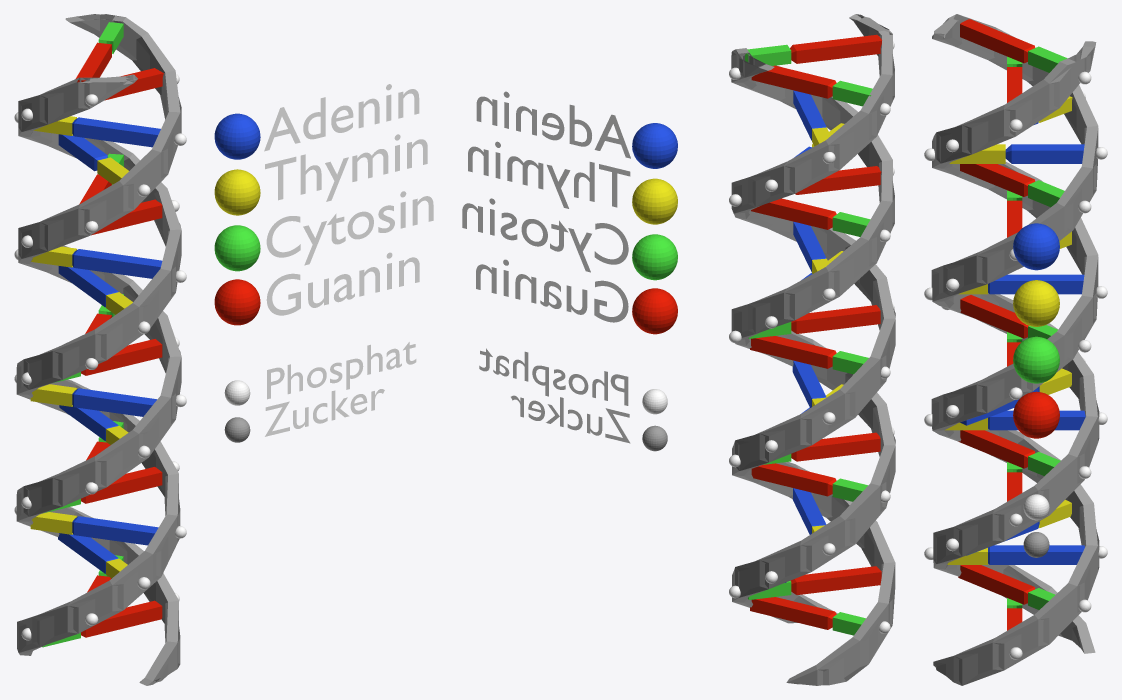
File: dna.glb
3 renders of one model, left to right at view 1: azimuth 30°, elevation 25°; view 2: azimuth 150°, elevation 25°; view 3: azimuth 270°, elevation 25°, orthographic.
Visible parts, largest first — view 1: Cube.001, Text.002, Text, Text.001, Text.003, Cube.014, Cube.027, Sphere.038, Sphere.036, Sphere.037, Sphere.039, Text.004 (+15 smaller); view 2: Cube.001, Text.002, Text.001, Text, Text.003, Cube.036, Cube.032, Cube.020, Text.004, Sphere.039, Sphere.038, Sphere.037 (+16 smaller); view 3: Cube.001, Sphere.038, Sphere.039, Sphere.036, Sphere.037, Cube.003, Cube.036, Cube.008, Cube.032, Cube.021, Cube.005, Cube.020 (+18 smaller).
Boxes of the visible parts, x1=… form: Cube.001: x1=16, y1=14, x2=181, y2=685; Text.002: x1=266, y1=191, x2=433, y2=265; Text: x1=264, y1=84, x2=419, y2=151; Text.001: x1=265, y1=134, x2=427, y2=201; Text.003: x1=266, y1=252, x2=419, y2=315; Cube.014: x1=72, y1=249, x2=162, y2=278; Cube.027: x1=72, y1=117, x2=160, y2=147; Sphere.038: x1=214, y1=225, x2=260, y2=271; Sphere.036: x1=214, y1=113, x2=260, y2=159; Sphere.037: x1=214, y1=169, x2=260, y2=215; Sphere.039: x1=214, y1=279, x2=260, y2=325; Text.004: x1=267, y1=342, x2=416, y2=399; Cube.001: x1=731, y1=14, x2=895, y2=685; Text.002: x1=462, y1=198, x2=628, y2=272; Text.001: x1=468, y1=141, x2=630, y2=208; Text: x1=476, y1=91, x2=630, y2=158; Text.003: x1=476, y1=259, x2=628, y2=322; Cube.036: x1=790, y1=34, x2=881, y2=63; Cube.032: x1=790, y1=566, x2=881, y2=594; Cube.020: x1=791, y1=305, x2=880, y2=333; Text.004: x1=479, y1=348, x2=628, y2=405; Sphere.039: x1=632, y1=288, x2=677, y2=334; Sphere.038: x1=632, y1=234, x2=677, y2=280; Sphere.037: x1=632, y1=178, x2=677, y2=224; Cube.001: x1=931, y1=14, x2=1099, y2=685; Sphere.038: x1=1013, y1=336, x2=1059, y2=383; Sphere.039: x1=1013, y1=391, x2=1059, y2=438; Sphere.036: x1=1013, y1=223, x2=1059, y2=270; Sphere.037: x1=1013, y1=280, x2=1059, y2=326; Cube.003: x1=988, y1=545, x2=1084, y2=564; Cube.036: x1=960, y1=19, x2=1035, y2=63; Cube.008: x1=1005, y1=144, x2=1084, y2=163; Cube.032: x1=958, y1=565, x2=1034, y2=604; Cube.021: x1=958, y1=430, x2=1034, y2=468; Cube.005: x1=988, y1=274, x2=1084, y2=294; Cube.020: x1=960, y1=295, x2=1028, y2=338.
Size of the model in its own units: 6.63 by 9.19 by 2.47.
